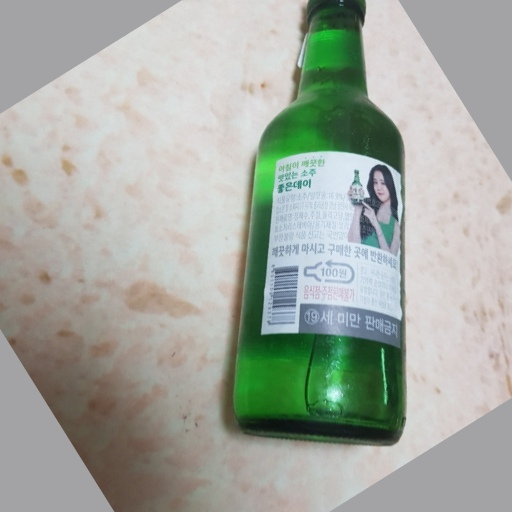Glass_0: (214, 1, 413, 446)
